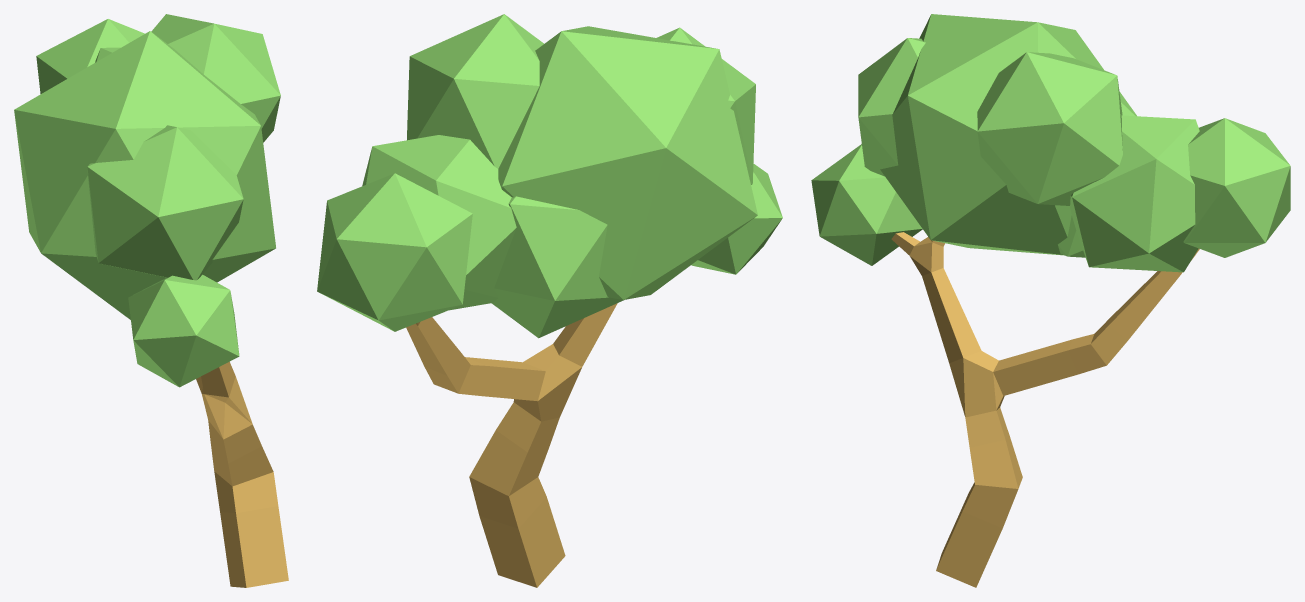
The model's file is tree1.fbx.
3 views of the same model, side by side, from view 1: azimuth 30°, elevation 25°; view 2: azimuth 150°, elevation 25°; view 3: azimuth 270°, elevation 25° (orthographic). The views are drawn at different scales.
Parts seen in each view (by area): view 1: Icosphere.002, Icosphere.005, Cube, Icosphere.003, Icosphere.006, Icosphere; view 2: Icosphere.002, Cube, Icosphere, Icosphere.006, Icosphere.004, Icosphere.001, Icosphere.003, Icosphere.005; view 3: Icosphere.002, Cube, Icosphere.006, Icosphere.001, Icosphere, Icosphere.003, Icosphere.005.
Boxes of the visible parts, x1,y1,x2,y2 form: Icosphere.002: [14, 31, 275, 319]; Icosphere.005: [87, 125, 243, 280]; Cube: [196, 362, 288, 587]; Icosphere.003: [128, 274, 239, 387]; Icosphere.006: [151, 14, 280, 142]; Icosphere: [36, 19, 144, 93]; Icosphere.002: [498, 26, 757, 299]; Cube: [406, 303, 617, 587]; Icosphere: [317, 173, 472, 331]; Icosphere.006: [407, 14, 543, 168]; Icosphere.004: [491, 196, 623, 338]; Icosphere.001: [362, 135, 516, 310]; Icosphere.003: [691, 163, 782, 274]; Icosphere.005: [657, 27, 755, 184]; Icosphere.002: [880, 14, 1136, 255]; Cube: [891, 232, 1199, 587]; Icosphere.006: [977, 52, 1122, 205]; Icosphere.001: [1069, 115, 1199, 272]; Icosphere: [1183, 118, 1290, 257]; Icosphere.003: [811, 144, 922, 265]; Icosphere.005: [858, 38, 925, 176].
Size of the model in its own units: 402 by 747 by 620.
